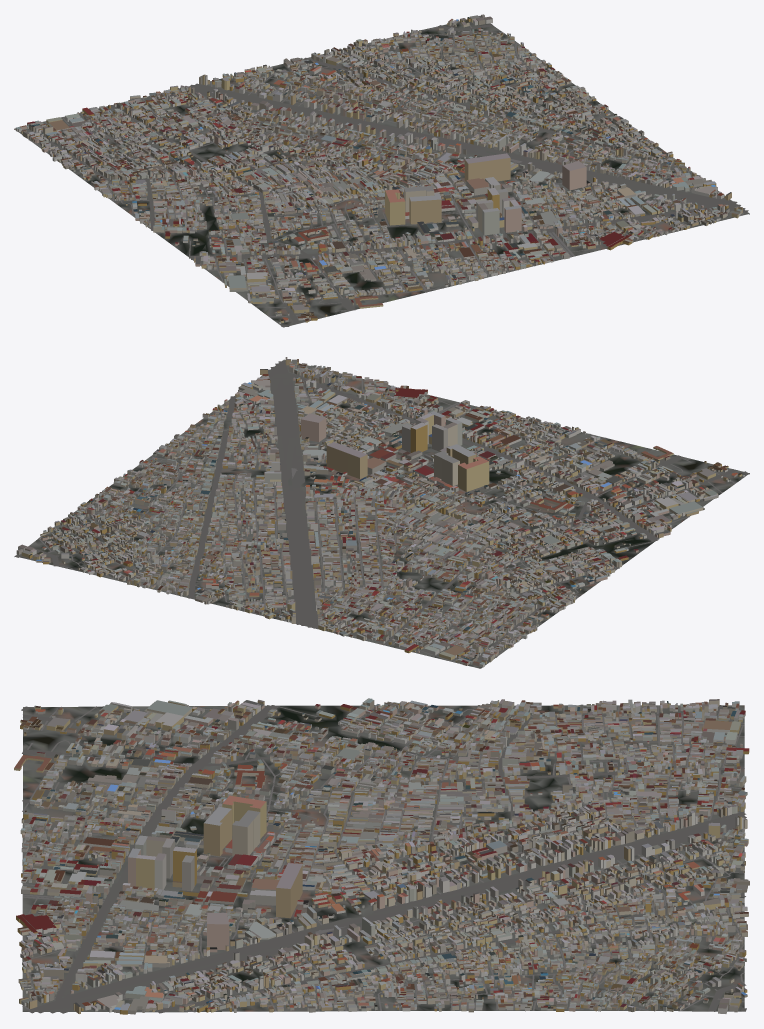
3 renders of one model, top to bottom at view 1: azimuth 30°, elevation 25°; view 2: azimuth 150°, elevation 25°; view 3: azimuth 270°, elevation 25°, orthographic. The views are drawn at different scales.
Parts seen in each view (by area): view 1: buildings, ground, roads; view 2: buildings, ground, roads; view 3: buildings, ground, roads.
Part boxes in pixels (<box>): buildings: <box>15,14,742,323</box>; ground: <box>14,17,749,327</box>; roads: <box>22,15,748,326</box>; buildings: <box>16,357,744,667</box>; ground: <box>16,359,749,668</box>; roads: <box>14,361,749,662</box>; buildings: <box>14,698,749,1014</box>; ground: <box>22,705,744,1012</box>; roads: <box>21,705,746,1013</box>.
Bounding box in the file's own units: 1424 × 76.83 × 1428.
